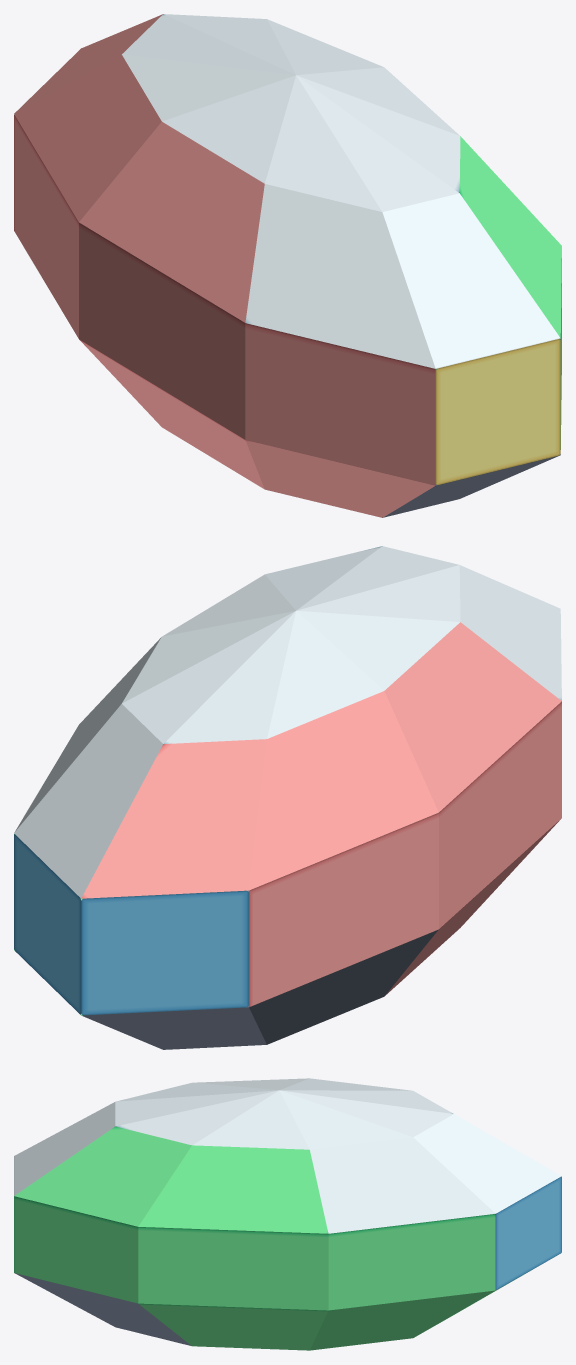
Rendered from boss.fbx.
3 views of the same model, one above another, from view 1: azimuth 30°, elevation 25°; view 2: azimuth 150°, elevation 25°; view 3: azimuth 270°, elevation 25° (orthographic). The views are drawn at different scales.
Parts seen in each view (by area): view 1: sphere; view 2: sphere; view 3: sphere.
Part boxes in pixels (x1=…): sphere: x1=14, y1=14, x2=561, y2=517; sphere: x1=14, y1=546, x2=561, y2=1049; sphere: x1=14, y1=1078, x2=561, y2=1350.
Bounding box in the file's own units: 18.69 × 18.75 × 37.5.
Materials: 1 (1 with a texture image).
